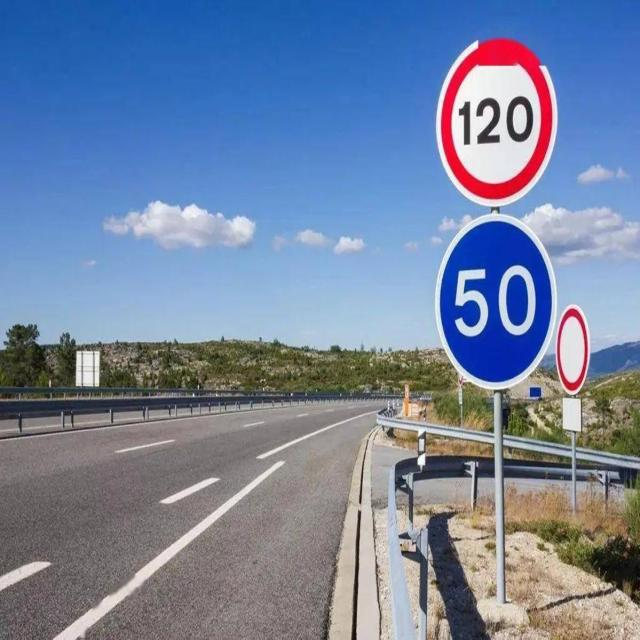speed limit 120: (436, 39, 558, 208)
speed limit 50: (434, 215, 558, 389)
